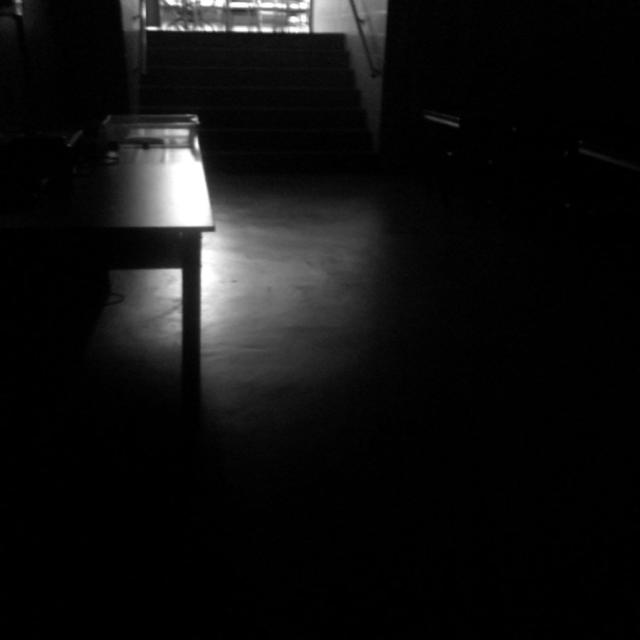Table: (2, 91, 261, 415)
